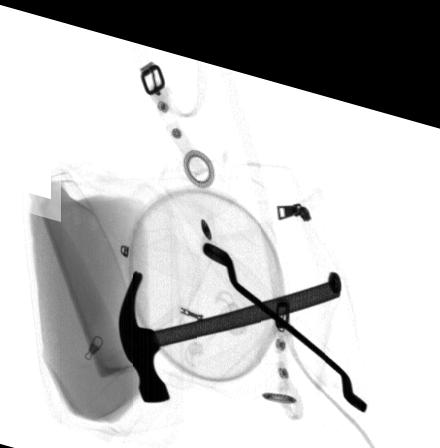Hammer: (116, 262, 342, 394)
Wrench: (203, 231, 368, 393)
